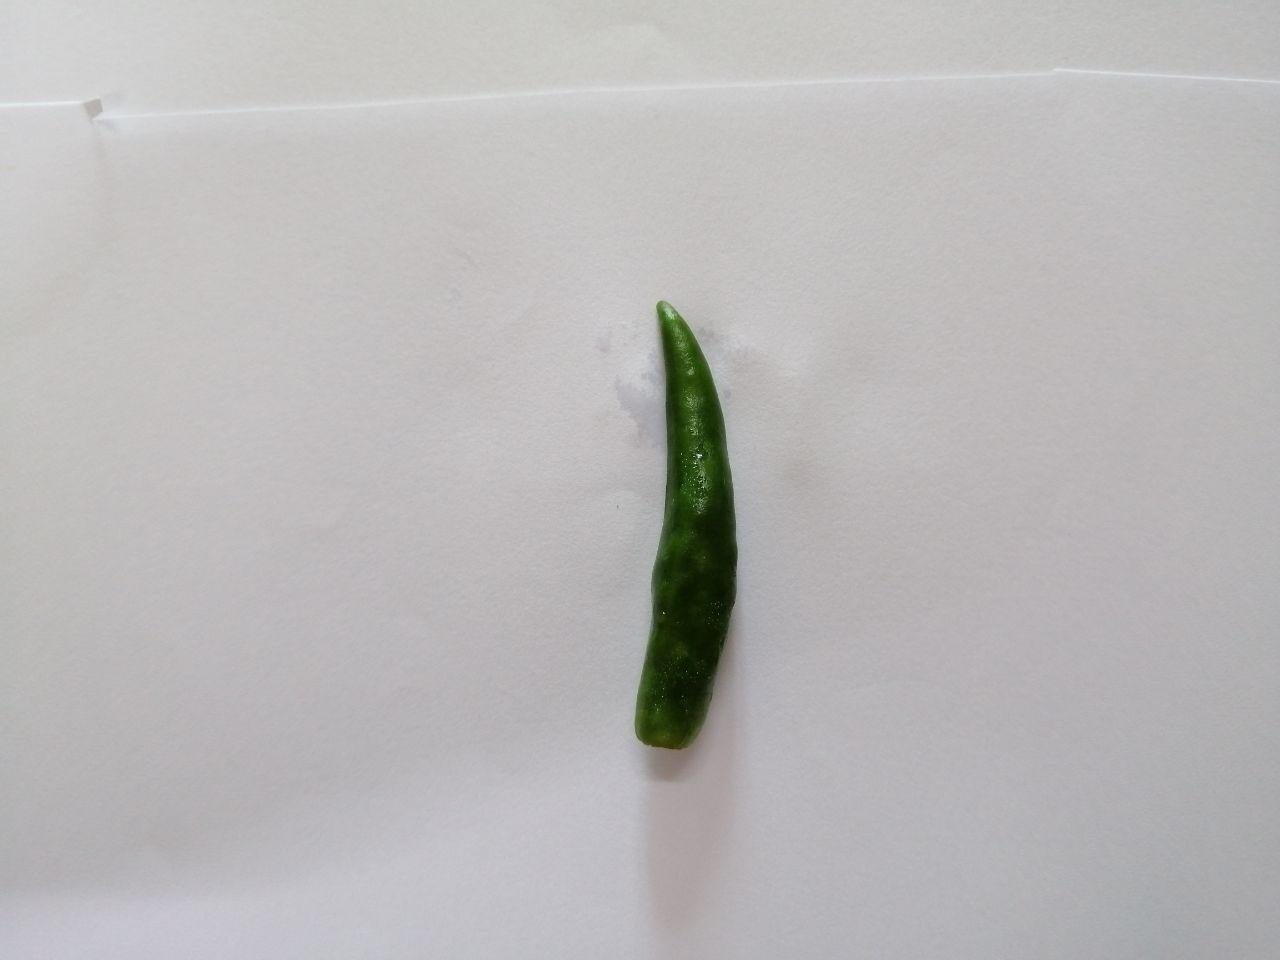lada hijau: (591, 267, 774, 783)
